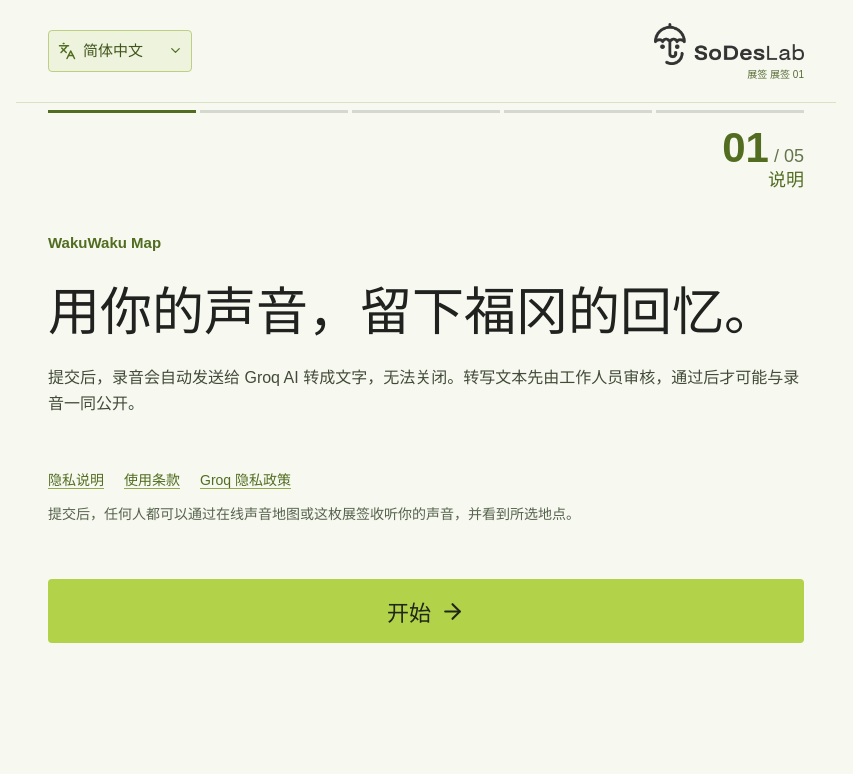
Scenario: visitor page › offers recording and explains public playback for an unbound tag
The image size is (853, 774).
Expected: the button "开始录音" is not shown
Step 1. Click the button "开始" → (426, 611), box [48, 579, 804, 643]
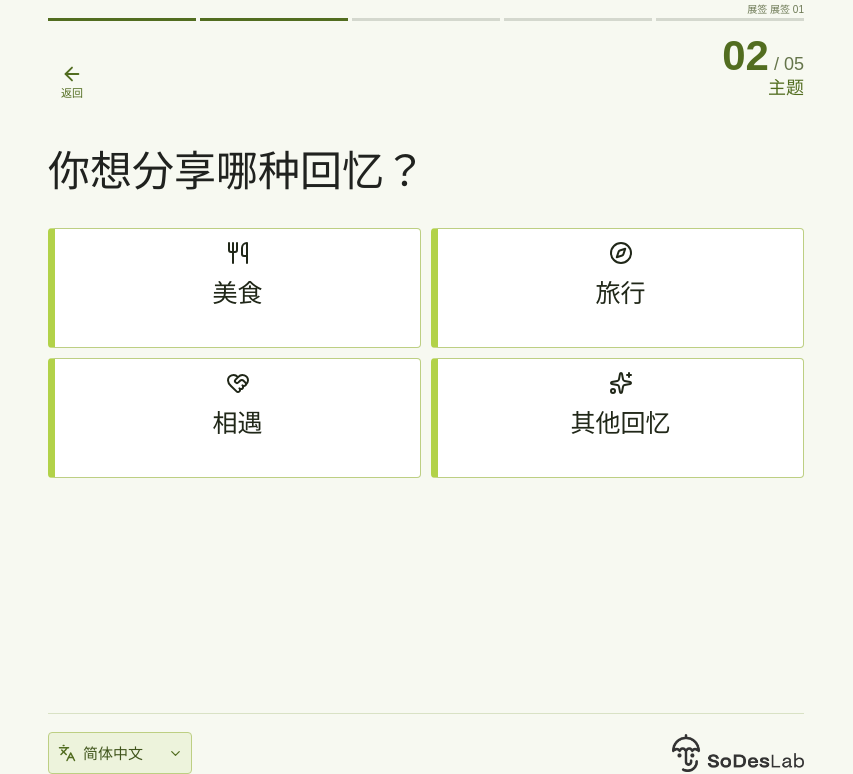
Step 2. Click the button "美食" → (234, 288), box [48, 228, 421, 348]
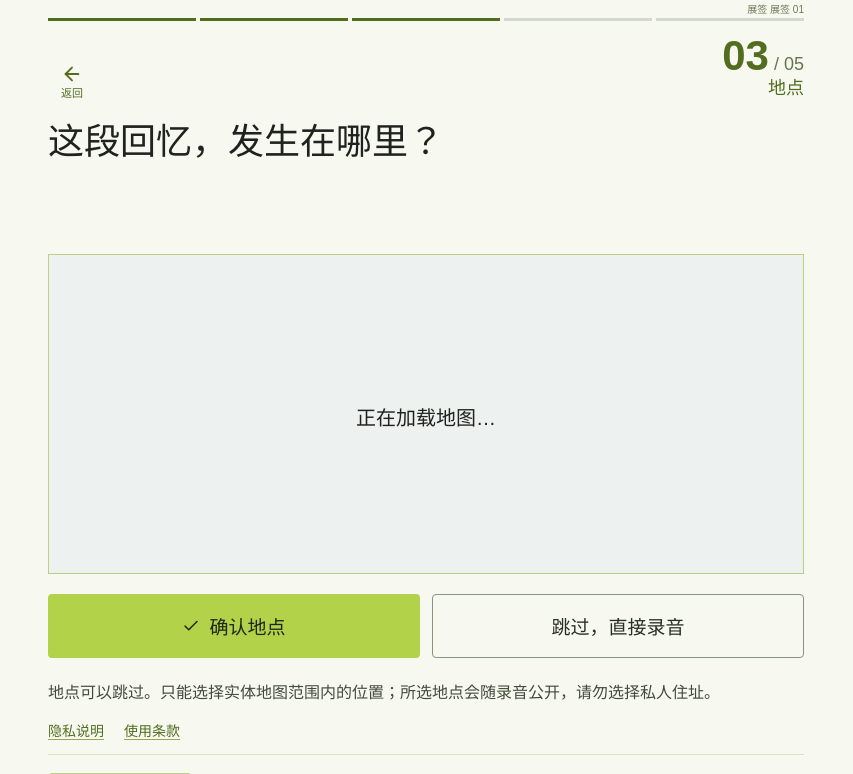
Step 3. Click the button "跳过，直接录音" → (618, 626), box [432, 594, 804, 658]
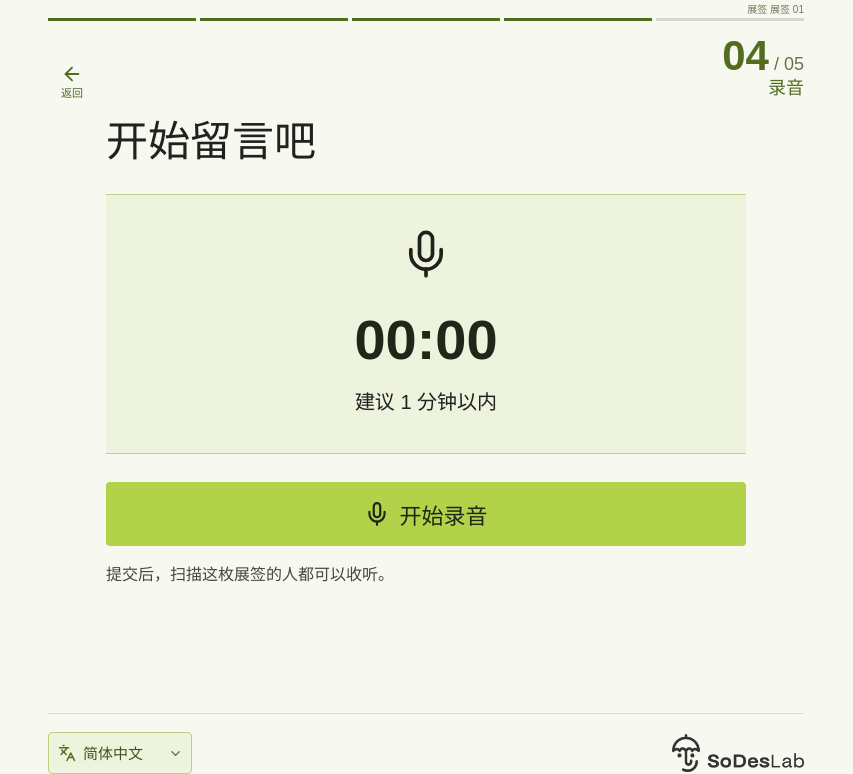
Now the button "开始录音" is shown, box [106, 482, 746, 546]
Now the text "提交后，扫描这枚展签的人都可以收听。" is shown, box [106, 566, 394, 583]
Now the heading "开始留言吧" is shown, box [106, 118, 316, 165]
